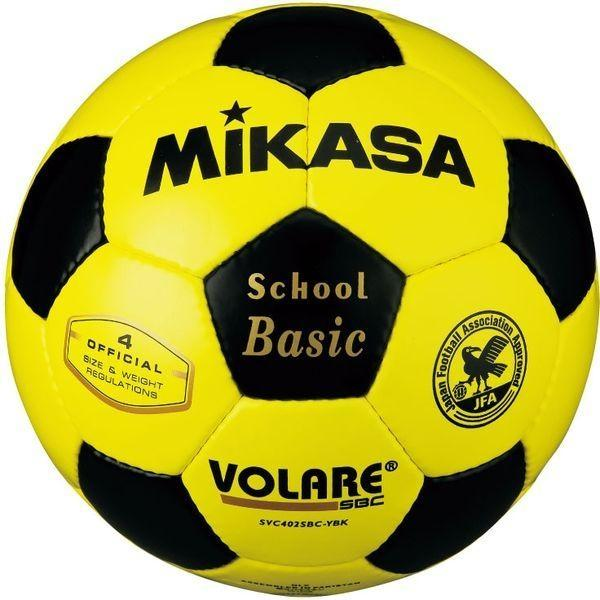Sports-Ball: (5, 0, 600, 599)
